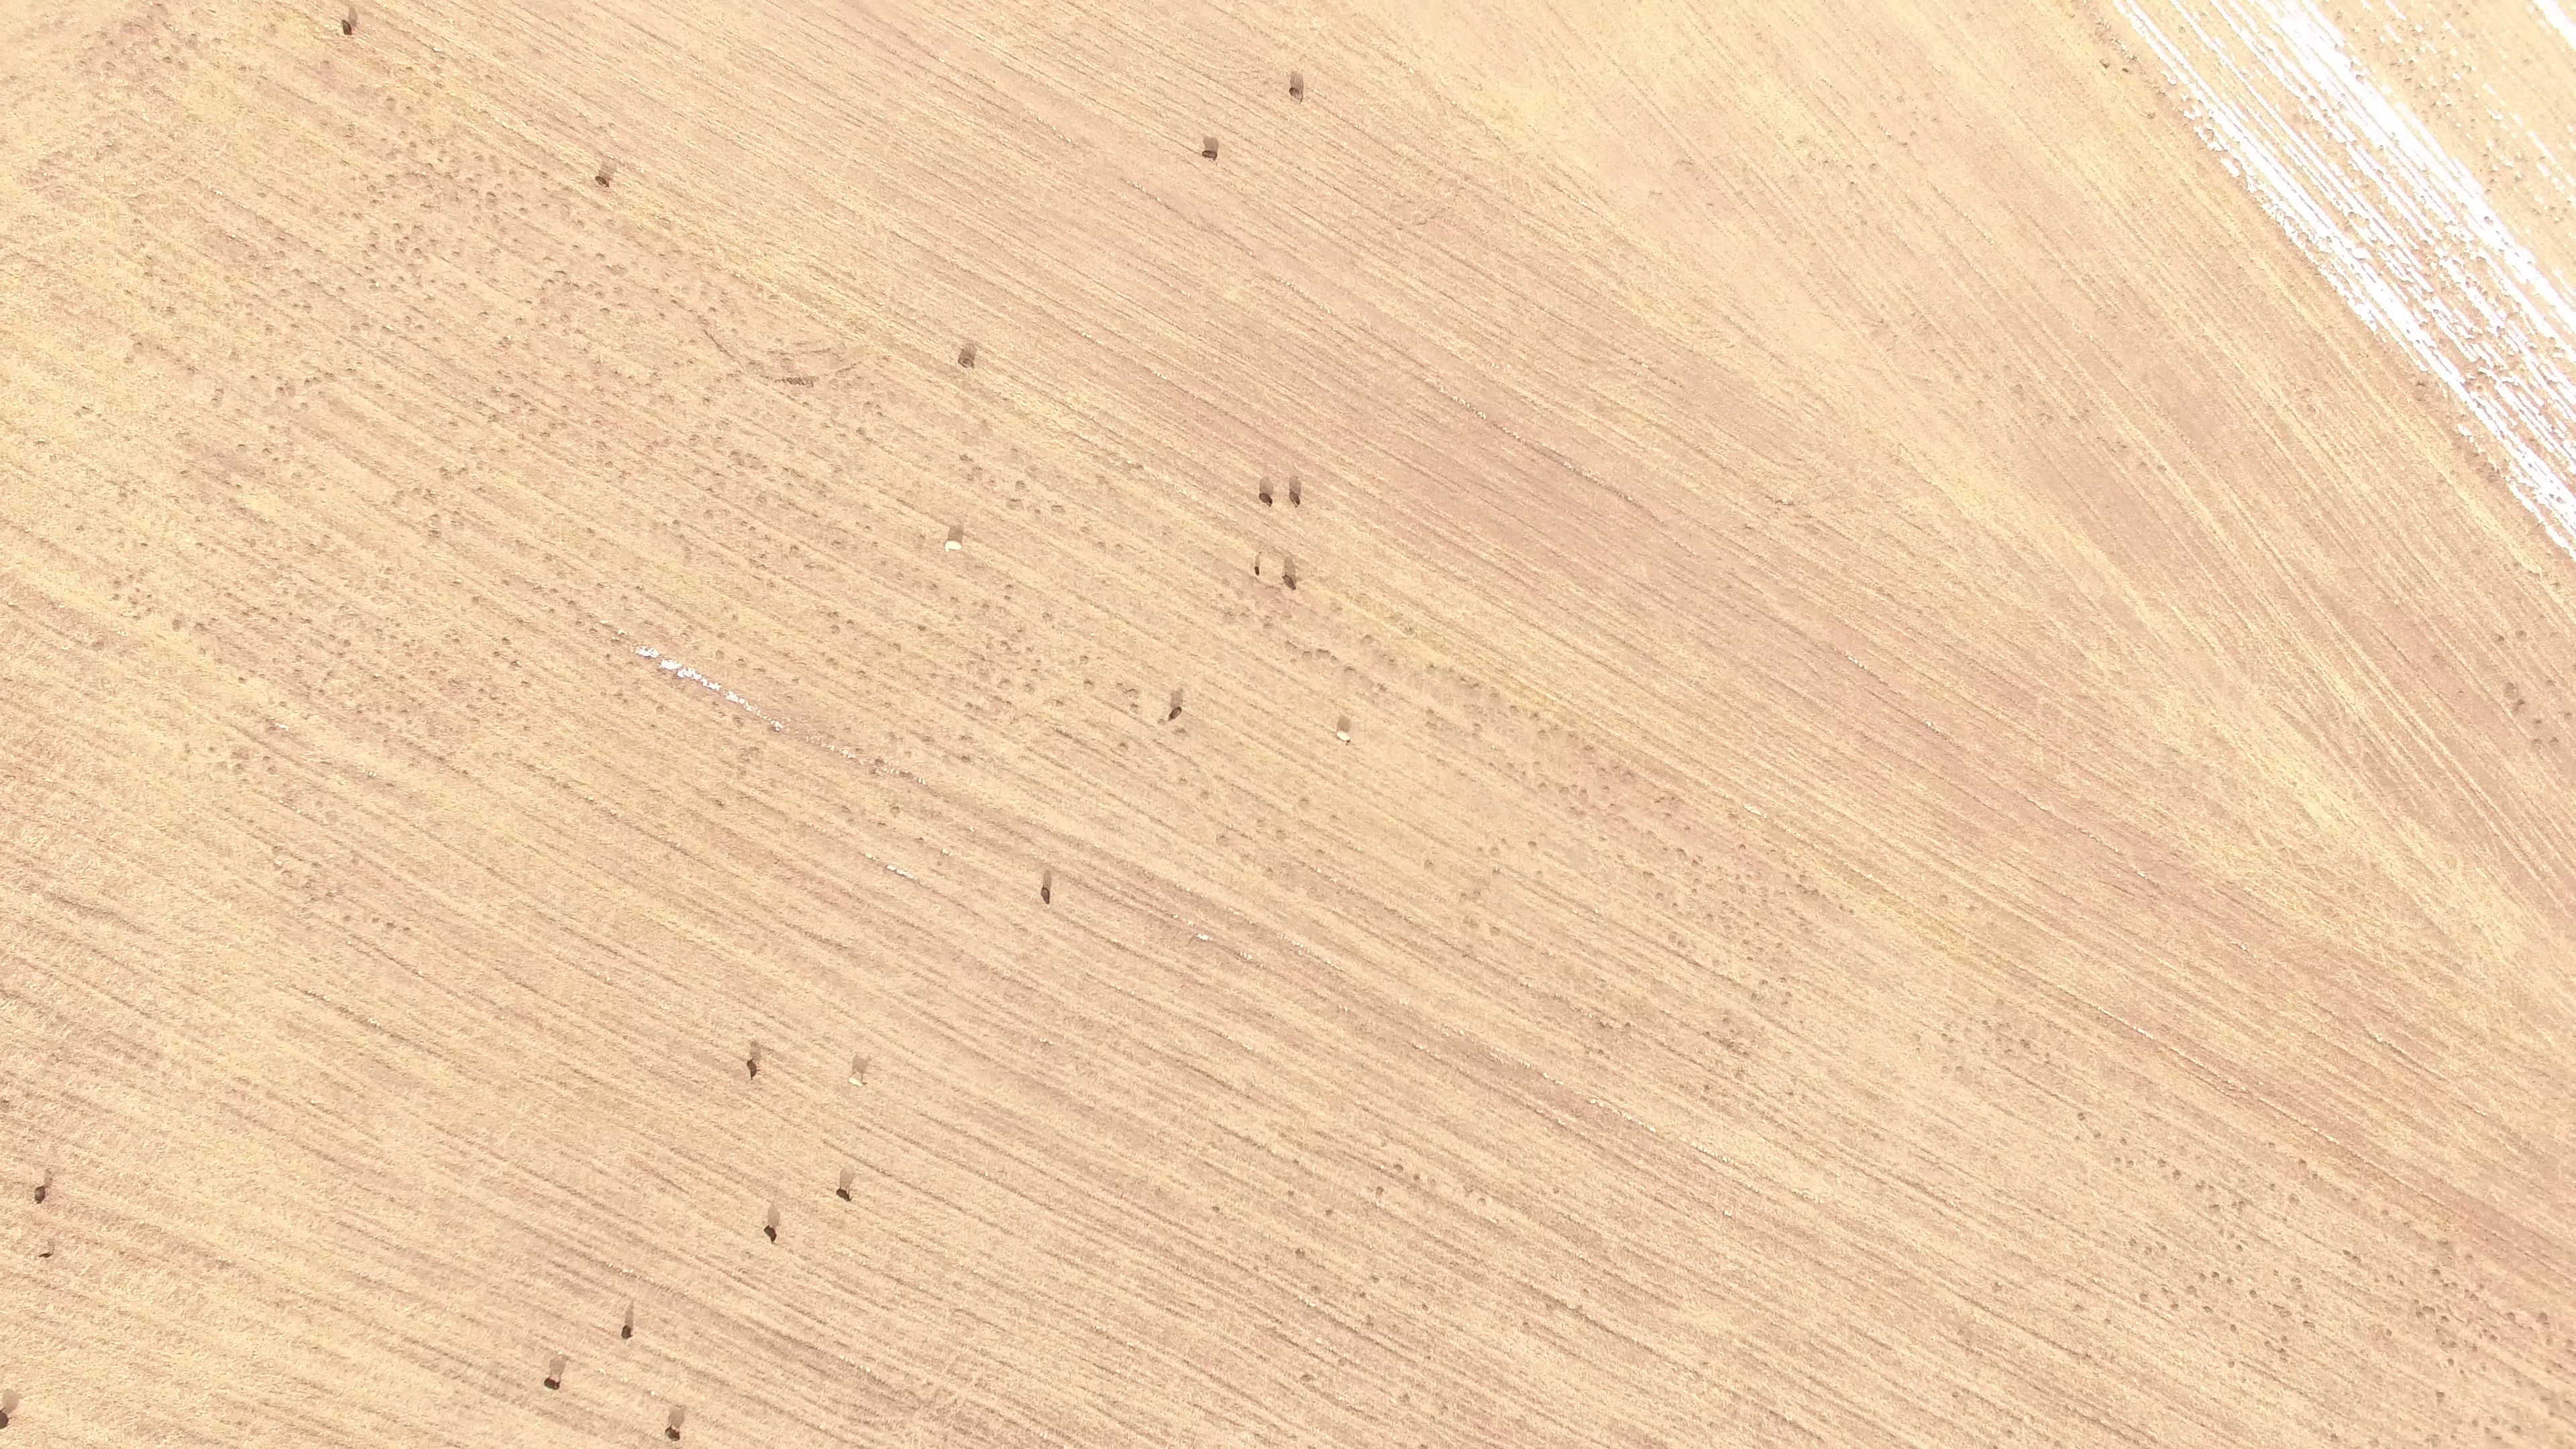sheep: (1279, 570, 1301, 594), (1284, 84, 1307, 104), (743, 1057, 761, 1082), (618, 1322, 638, 1343), (761, 1224, 782, 1245), (1332, 726, 1353, 747), (591, 170, 612, 191), (661, 1424, 685, 1444), (1255, 490, 1277, 510), (32, 1183, 50, 1207), (541, 1375, 563, 1393), (1164, 704, 1186, 724), (941, 537, 967, 554), (953, 354, 978, 370), (1197, 147, 1222, 162), (833, 1185, 853, 1205), (1285, 488, 1304, 508), (848, 1073, 868, 1091), (338, 17, 356, 38), (1037, 884, 1055, 906), (40, 1249, 54, 1261), (1251, 563, 1263, 578)
unknown: (2434, 365, 2460, 389), (1, 1407, 17, 1434), (849, 1056, 869, 1077), (548, 1356, 568, 1377), (659, 657, 683, 672), (2511, 698, 2528, 714), (783, 374, 805, 388), (837, 1173, 855, 1189), (639, 647, 654, 663), (1055, 727, 1072, 741), (2536, 1309, 2551, 1324), (1391, 1161, 1407, 1174), (2433, 1389, 2448, 1401), (1301, 1371, 1313, 1385), (2430, 1266, 2443, 1278), (690, 671, 704, 682), (2484, 475, 2498, 486), (171, 616, 182, 632), (2414, 378, 2429, 390), (2227, 1322, 2239, 1334), (2413, 1308, 2425, 1320), (2210, 1269, 2222, 1281), (1323, 1207, 1335, 1218), (1411, 1171, 1423, 1183), (748, 1038, 761, 1051), (2505, 680, 2517, 692), (515, 616, 527, 627), (2474, 368, 2485, 380), (2168, 1301, 2181, 1311), (871, 756, 886, 767), (959, 753, 973, 763), (266, 723, 279, 734), (915, 623, 928, 634), (2328, 1431, 2340, 1442), (2470, 1343, 2481, 1354), (2487, 1332, 2500, 1344), (1356, 1289, 1368, 1301), (1293, 1246, 1304, 1258), (2233, 1242, 2245, 1252), (1210, 1203, 1222, 1214), (1285, 1189, 1297, 1199), (1526, 838, 1539, 849), (1177, 725, 1188, 736), (708, 682, 720, 692), (341, 637, 353, 649), (2495, 633, 2507, 645), (1362, 632, 1374, 642), (2566, 484, 2576, 496), (2471, 449, 2481, 460), (2466, 401, 2477, 413), (2100, 60, 2112, 71), (2129, 53, 2140, 64), (444, 1439, 454, 1449), (2470, 1418, 2481, 1430), (234, 1418, 245, 1429), (1401, 1391, 1411, 1402), (2445, 1356, 2456, 1366), (559, 1352, 570, 1362), (2276, 1346, 2288, 1356), (2447, 1339, 2457, 1350), (784, 1332, 794, 1343), (2438, 1313, 2449, 1323), (2421, 1303, 2431, 1313), (2247, 1287, 2257, 1298), (1310, 1283, 1322, 1293), (2224, 1275, 2235, 1287), (894, 1275, 904, 1286), (2341, 1248, 2351, 1258), (2159, 1242, 2169, 1253), (45, 1238, 55, 1249), (2212, 1201, 2222, 1212), (2288, 1194, 2298, 1204), (2172, 1167, 2183, 1179), (2296, 1157, 2308, 1167), (2112, 1155, 2123, 1165), (2092, 1130, 2102, 1141), (2076, 1110, 2086, 1120), (1701, 1082, 1712, 1093), (1723, 1041, 1734, 1051), (1703, 1028, 1713, 1039), (1980, 1018, 1990, 1028), (301, 987, 311, 998), (1199, 932, 1210, 943), (385, 920, 397, 931), (891, 803, 902, 813), (559, 781, 570, 792), (2550, 735, 2560, 745), (923, 734, 934, 745), (958, 733, 968, 743), (768, 724, 779, 734), (2532, 716, 2543, 727), (1053, 697, 1064, 707), (1377, 683, 1387, 693), (1000, 676, 1010, 686), (1344, 663, 1354, 674), (826, 655, 837, 665), (650, 647, 661, 658), (95, 639, 105, 649), (2516, 628, 2527, 639), (603, 621, 613, 631), (193, 619, 203, 629), (302, 616, 314, 627), (830, 608, 841, 619), (470, 594, 482, 604), (111, 578, 123, 588), (430, 527, 441, 537), (586, 526, 597, 537), (671, 517, 682, 527), (728, 448, 739, 458), (2526, 435, 2536, 446), (2460, 392, 2471, 402), (276, 384, 286, 394), (2461, 379, 2471, 389), (2544, 377, 2555, 388), (2505, 309, 2516, 320), (2477, 256, 2487, 266), (1793, 1421, 1803, 1432), (717, 1378, 727, 1388), (2565, 1337, 2575, 1348), (2280, 1334, 2290, 1344), (1276, 1332, 1287, 1342), (2295, 1282, 2305, 1292), (2196, 1270, 2206, 1280), (2267, 1181, 2277, 1191), (2155, 1157, 2165, 1167), (2395, 1048, 2405, 1058), (1623, 1020, 1633, 1030), (1749, 990, 1759, 1000), (1118, 739, 1128, 749), (1530, 710, 1541, 720), (1083, 677, 1094, 687), (700, 677, 710, 687), (1317, 647, 1328, 657), (502, 636, 512, 646), (199, 624, 209, 634), (845, 616, 855, 627), (437, 465, 447, 475), (506, 390, 517, 400), (2457, 387, 2467, 398), (2491, 362, 2502, 372), (2342, 223, 2352, 233), (1, 1096, 9, 1106), (737, 696, 747, 706), (427, 668, 437, 678), (2553, 580, 2563, 590), (2320, 111, 2330, 121), (1990, 1443, 2001, 1449), (856, 1443, 867, 1449)
